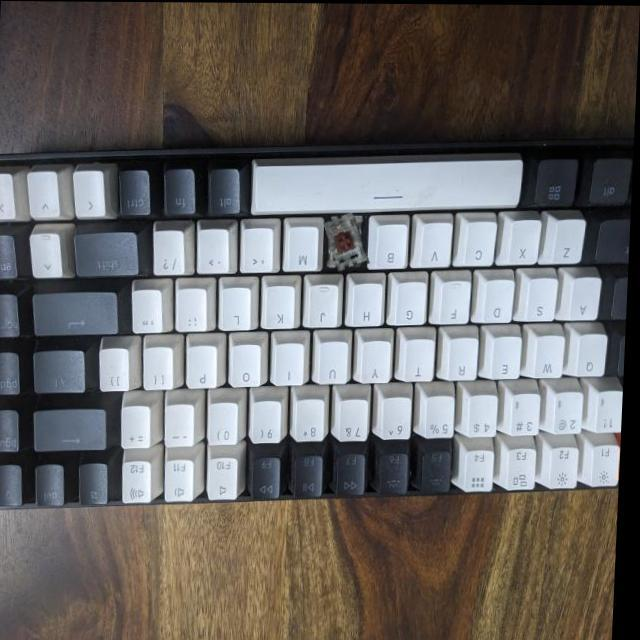key-switch: (327, 212, 369, 270)
